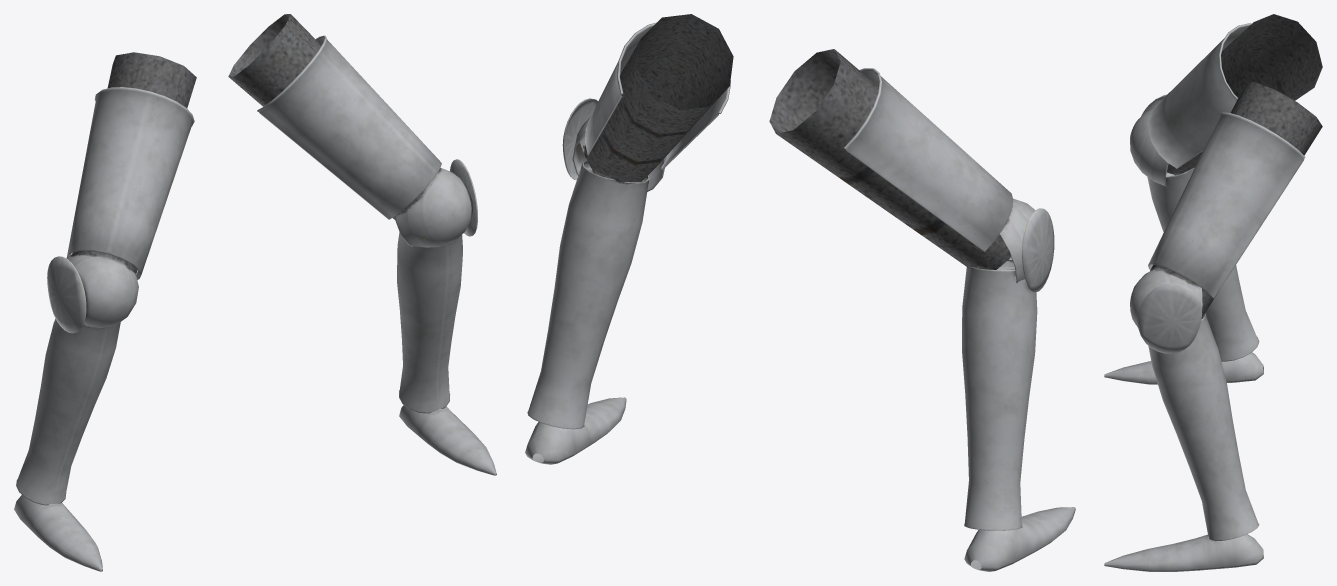
Rendered from legs_512.glb.
3 renders of one model, left to right at view 1: azimuth 30°, elevation 25°; view 2: azimuth 150°, elevation 25°; view 3: azimuth 270°, elevation 25°, orthographic. The views are drawn at different scales.
Visible parts, largest first — view 1: rider_leg_r, rider_leg_l; view 2: rider_leg_r, rider_leg_l; view 3: rider_leg_l, rider_leg_r.
Boxes of the visible parts, <box> form: rider_leg_r: <box>14,52,196,571</box>; rider_leg_l: <box>228,14,496,475</box>; rider_leg_r: <box>769,49,1075,571</box>; rider_leg_l: <box>525,14,733,464</box>; rider_leg_l: <box>1104,82,1322,571</box>; rider_leg_r: <box>1104,14,1322,384</box>.
Size of the model in its own units: 1.03 by 0.9839 by 0.462.
Materials: 1 (1 with a texture image).
